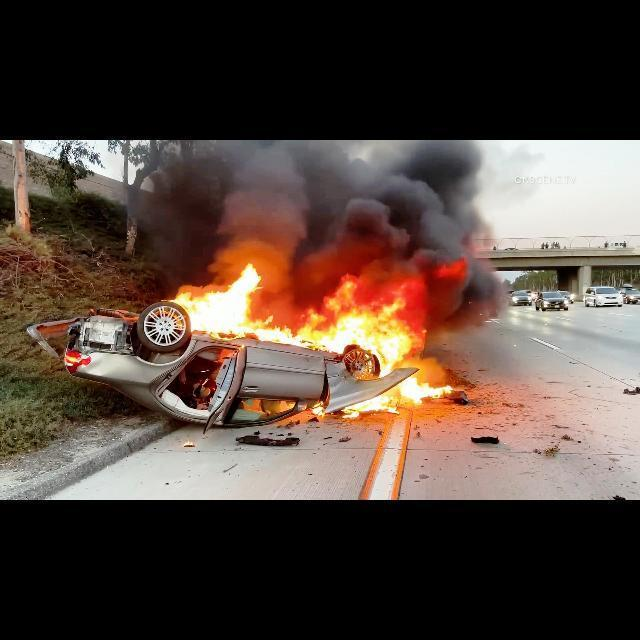Fire: (318, 276, 454, 410), (169, 263, 261, 337), (253, 310, 317, 348)
Smoke: (137, 140, 489, 260)
